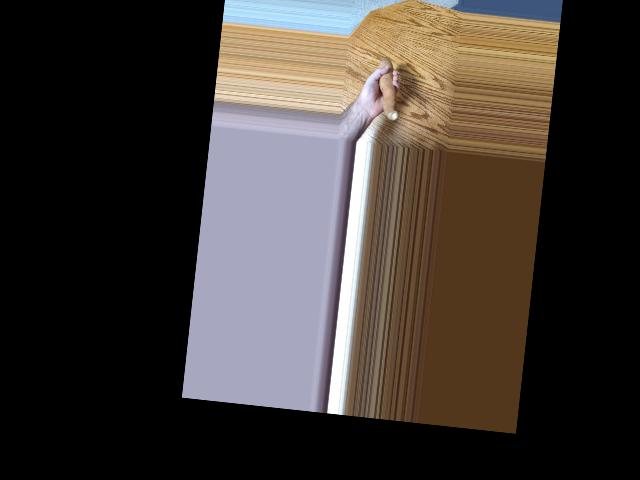sweet_potato: (369, 62, 400, 125)
